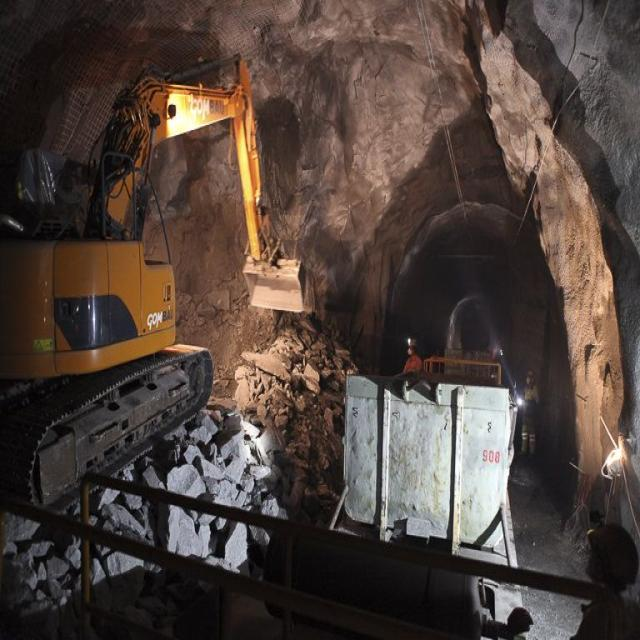dump_truck: (332, 298, 525, 572)
excavator: (12, 41, 334, 510)
